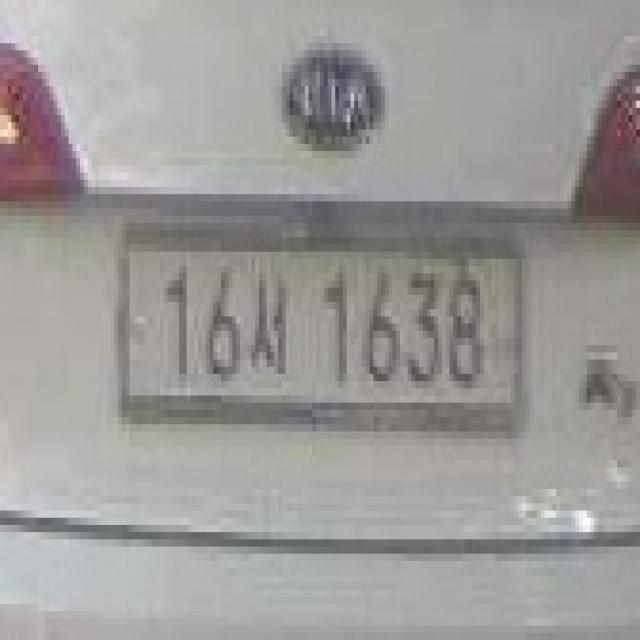1: (152, 244, 198, 396), (316, 252, 362, 396)
3: (404, 259, 442, 395)
6: (198, 252, 248, 402), (362, 259, 408, 403)
8: (442, 266, 491, 403)
license_plate: (111, 216, 537, 446)
seo: (244, 252, 297, 402)
